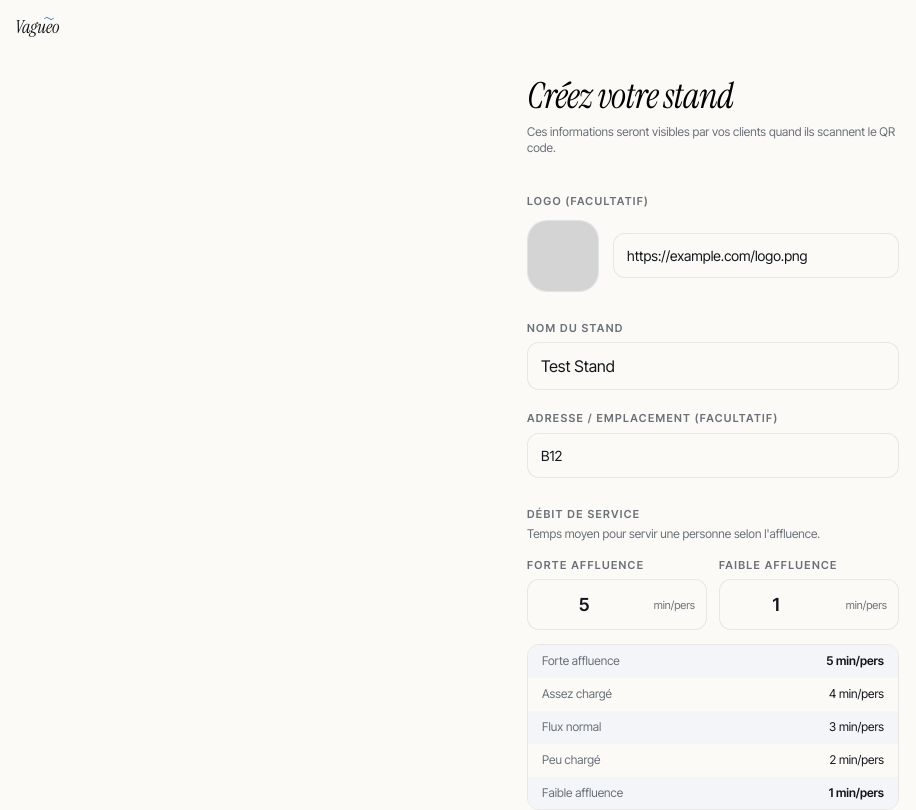
ScreenVendorSetup › flowSprint clamps at flowSlow - 0.5 when set too high
The width and height of the screenshot is (916, 810).
Replace the text in the number field labelled "Faible affluence" with "10". click: [809, 605]
box: left=719, top=580, right=899, bottom=630
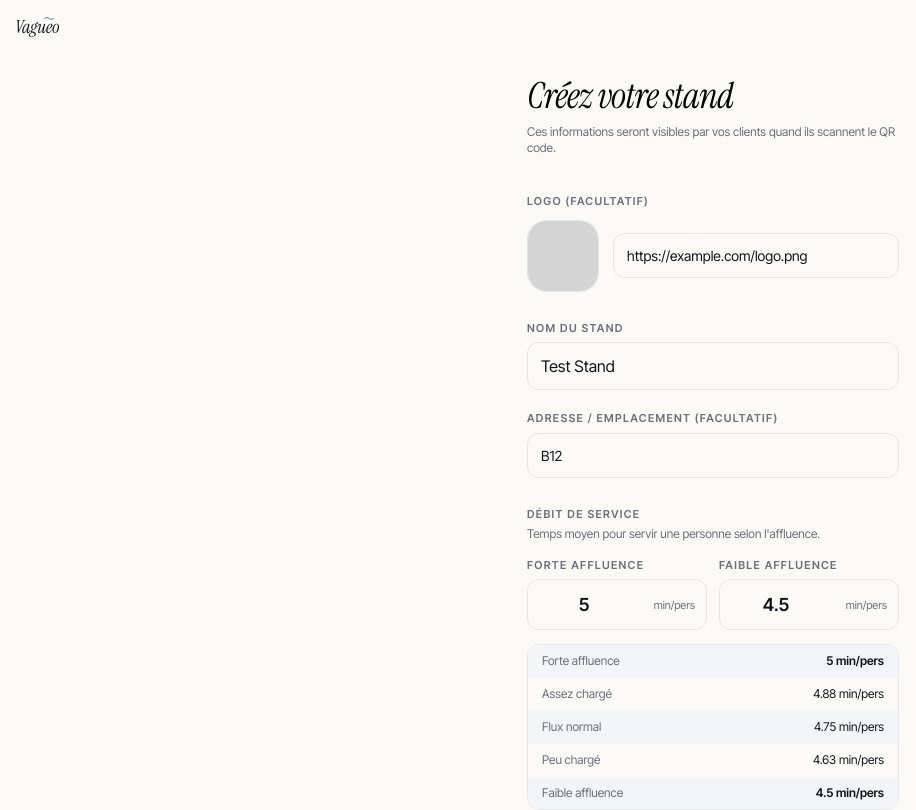
Expected: the number field labelled "Faible affluence" holds "4.5", left=719, top=580, right=899, bottom=630
